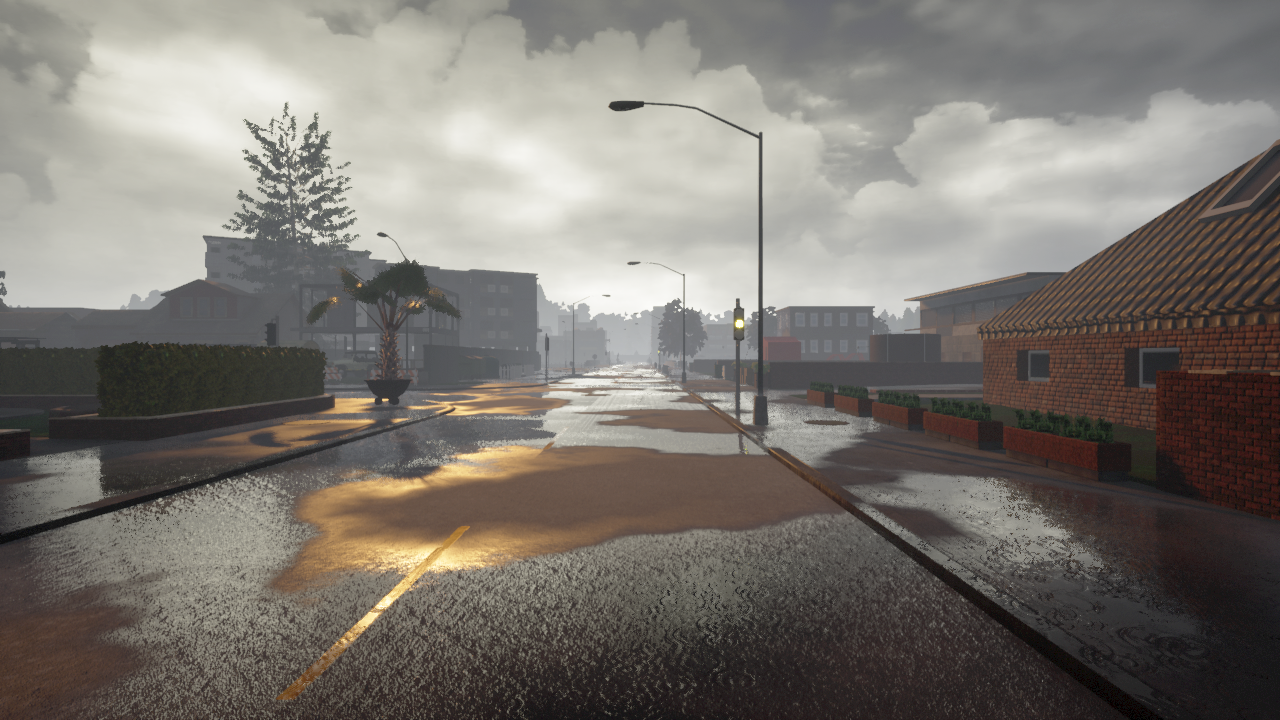yellow: (732, 306, 745, 341)
